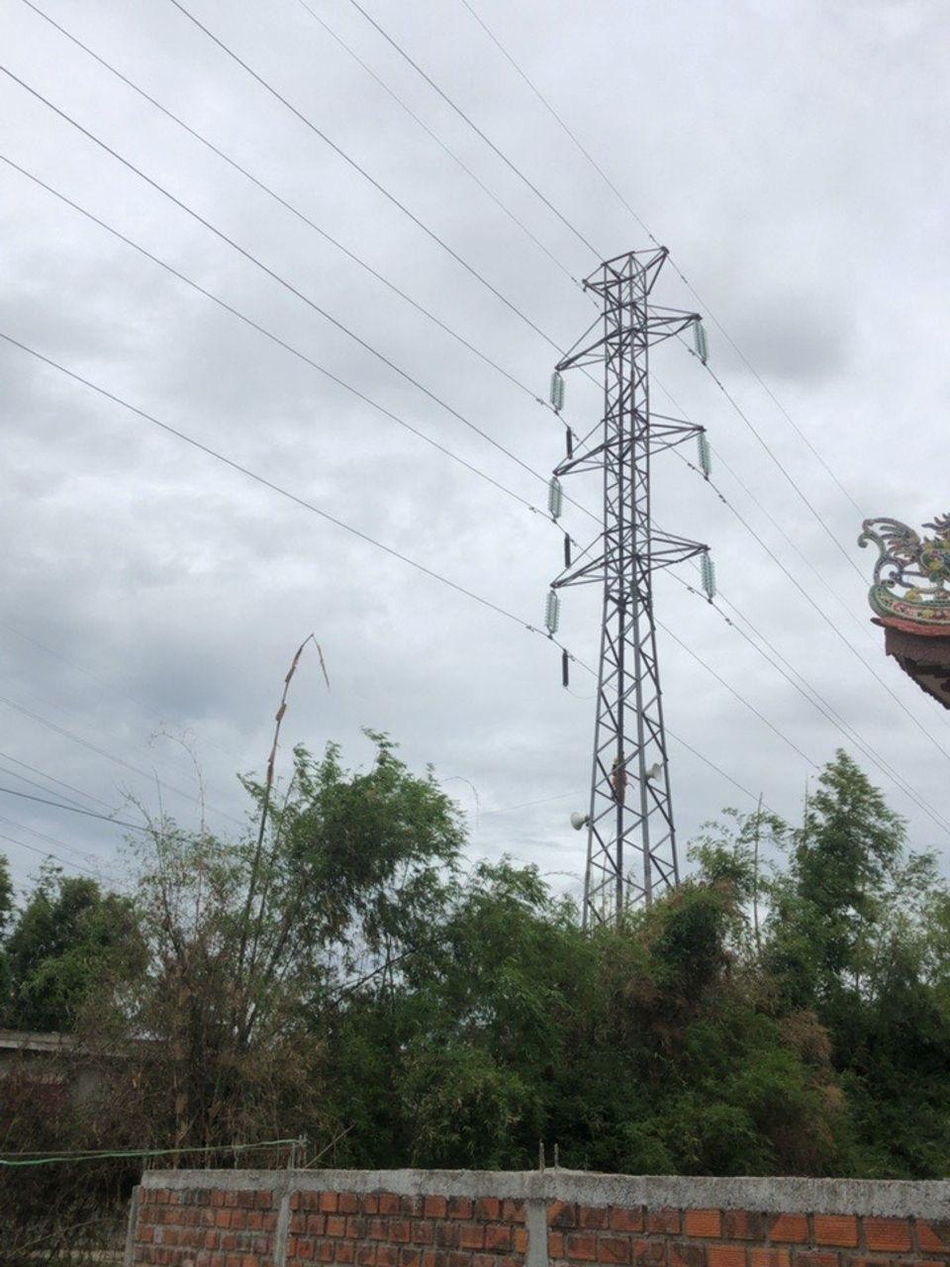tower: (505, 215, 749, 1181)
